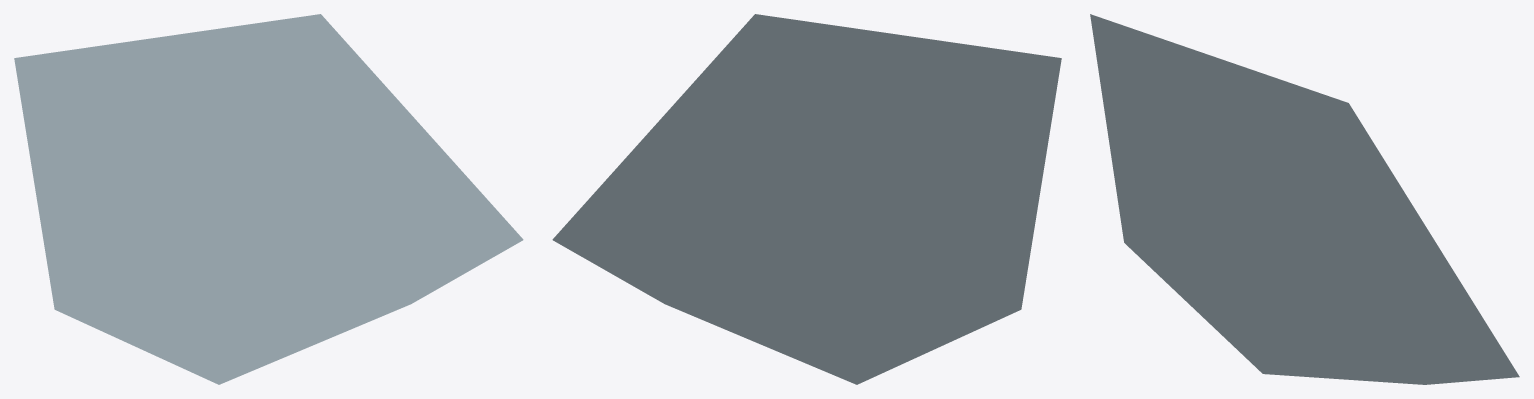
3 views of the same model, side by side, from view 1: azimuth 30°, elevation 25°; view 2: azimuth 150°, elevation 25°; view 3: azimuth 330°, elevation 25° (orthographic). The views are drawn at different scales.
Visible parts, largest first — view 1: pCube53; view 2: pCube53; view 3: pCube53.
Boxes of the visible parts, box(x1,y1,x2,y2) form: pCube53: box(14, 14, 523, 384); pCube53: box(552, 14, 1061, 384); pCube53: box(1090, 14, 1519, 384).
Size of the model in its own units: 41.86 by 29.57 by 0.
